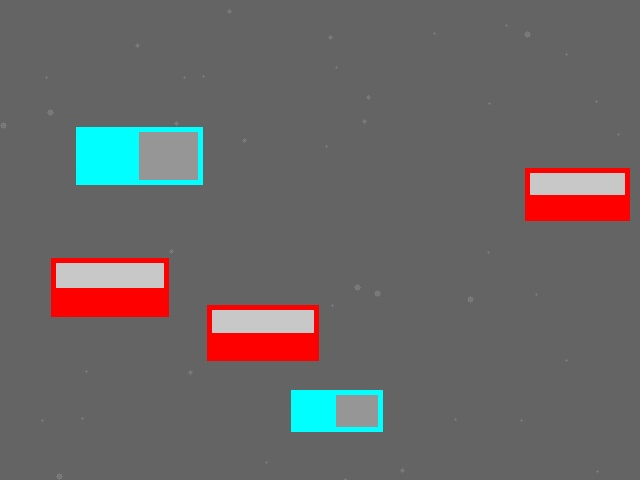car: (51, 258, 168, 316), (207, 305, 318, 360), (525, 168, 629, 220)
truck: (76, 127, 202, 184), (291, 390, 382, 431)
